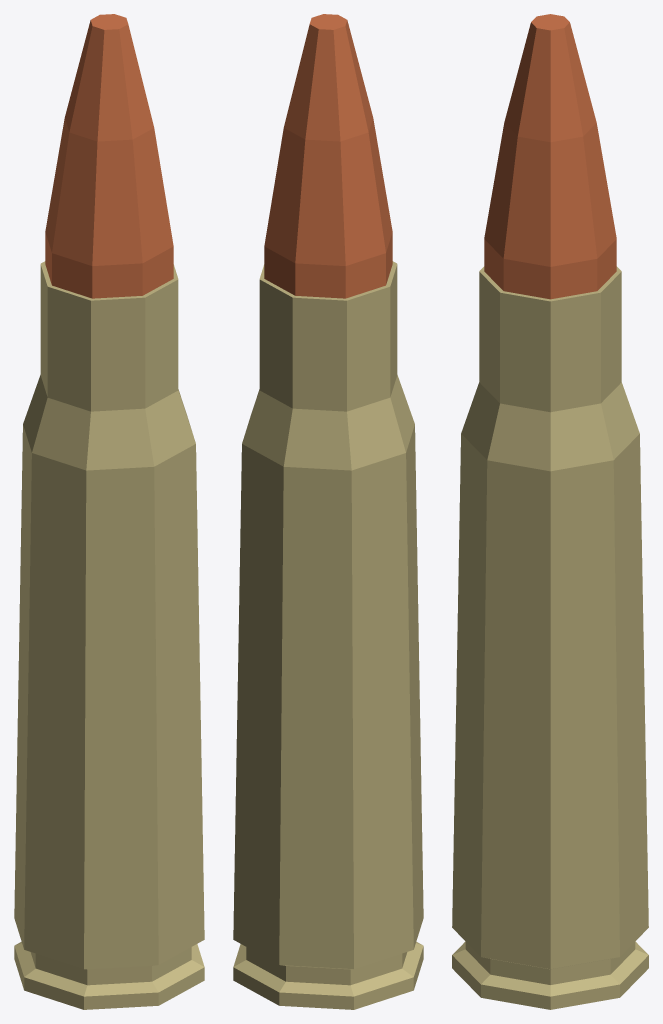
Rendered from CRT-556.fbx.
The picture shows the model from 3 angles, left to right: view 1: azimuth 30°, elevation 25°; view 2: azimuth 150°, elevation 25°; view 3: azimuth 270°, elevation 25°; orthographic projection.
Visible parts, largest first — view 1: Cylinder.011; view 2: Cylinder.011; view 3: Cylinder.011.
Boxes of the visible parts, x1=… form: Cylinder.011: x1=14, y1=14, x2=204, y2=1009; Cylinder.011: x1=233, y1=14, x2=423, y2=1009; Cylinder.011: x1=452, y1=14, x2=648, y2=1009.
Bounding box in the file's own units: 28.31 × 150 × 28.31.
